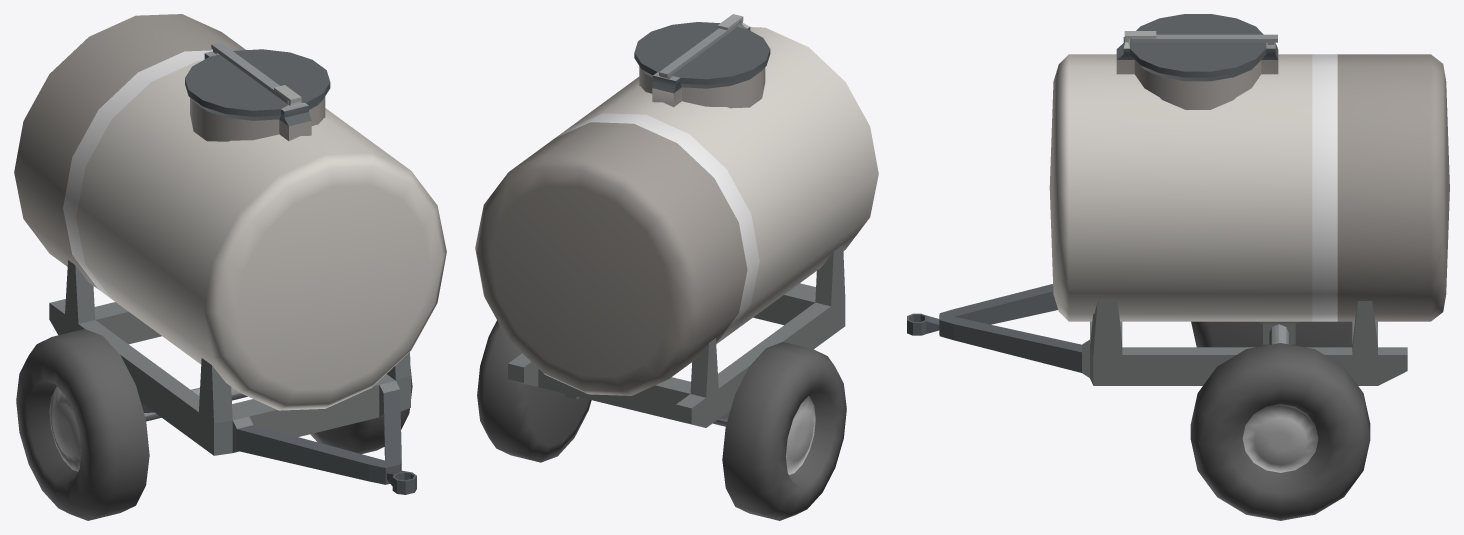
The model's file is TtankerS.gltf.
3 renders of one model, left to right at view 1: azimuth 30°, elevation 25°; view 2: azimuth 150°, elevation 25°; view 3: azimuth 270°, elevation 25°, orthographic. The views are drawn at different scales.
Parts seen in each view (by area): view 1: body, wheel_1, wheel_0, wheel_3; view 2: body, wheel_1, wheel_0, wheel_3; view 3: body, wheel_0, wheel_2, wheel_1.
Part boxes in pixels (x1,y1,x2,y2): body: (14,14,446,494); wheel_1: (16,329,149,520); wheel_0: (310,369,412,454); wheel_3: (49,387,81,471); body: (475,14,878,427); wheel_1: (722,342,846,520); wheel_0: (477,320,591,462); wheel_3: (785,396,815,474); body: (907,14,1449,385); wheel_0: (1190,343,1370,520); wheel_2: (1242,404,1318,472); wheel_1: (1191,321,1352,347).
Size of the model in its own units: 1.97 by 2.6 by 3.04.
1 material, 1 textured.
